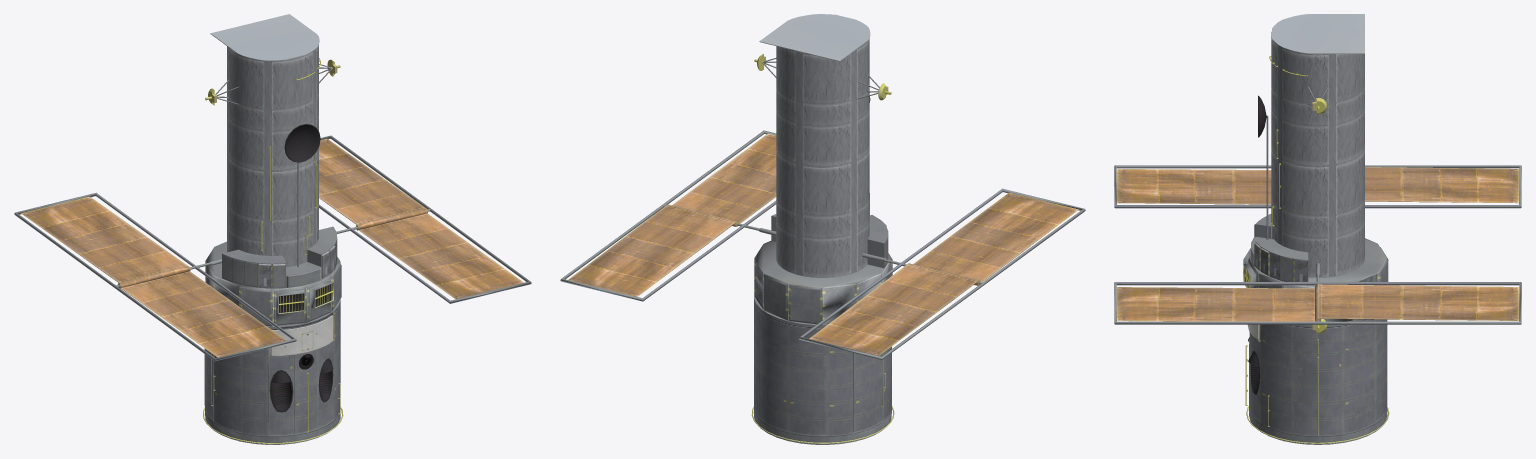
The model's file is hubble-telescope.glb.
3 views of the same model, side by side, from view 1: azimuth 30°, elevation 25°; view 2: azimuth 150°, elevation 25°; view 3: azimuth 270°, elevation 25° (orthographic).
Parts seen in each view (by area): view 1: telescope; view 2: telescope; view 3: telescope.
Part boxes in pixels (box(x1,y1,x2,y2)): telescope: box(14, 14, 531, 444); telescope: box(560, 14, 1085, 444); telescope: box(1114, 14, 1521, 444).
Size of the model in its own units: 11.51 by 13.2 by 12.59.
1 material, 1 textured.
